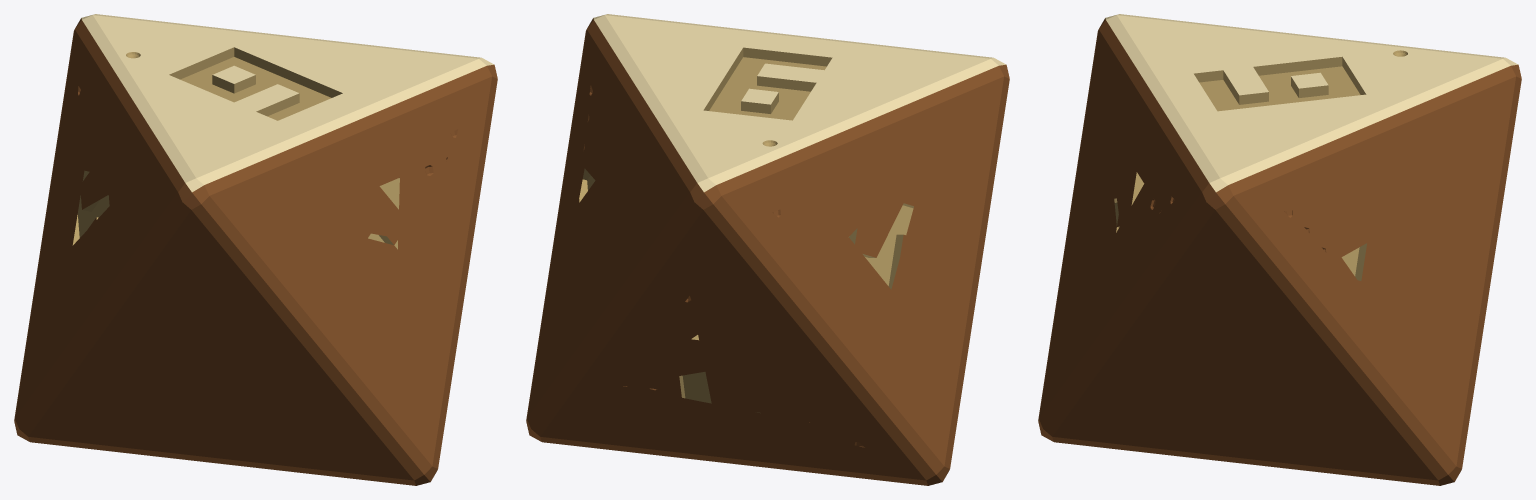
The model's file is Die_Pecorino_d8_Lucky9.fbx.
3 renders of one model, left to right at view 1: azimuth 30°, elevation 25°; view 2: azimuth 150°, elevation 25°; view 3: azimuth 270°, elevation 25°, orthographic.
Parts seen in each view (by area): view 1: Die_Pecorino_d8_Lucky9; view 2: Die_Pecorino_d8_Lucky9; view 3: Die_Pecorino_d8_Lucky9.
Boxes of the visible parts, box(x1,y1,x2,y2) form: Die_Pecorino_d8_Lucky9: box(14, 14, 497, 485); Die_Pecorino_d8_Lucky9: box(526, 14, 1009, 485); Die_Pecorino_d8_Lucky9: box(1038, 14, 1521, 485).
Size of the model in its own units: 1.38 by 1.04 by 1.38.
